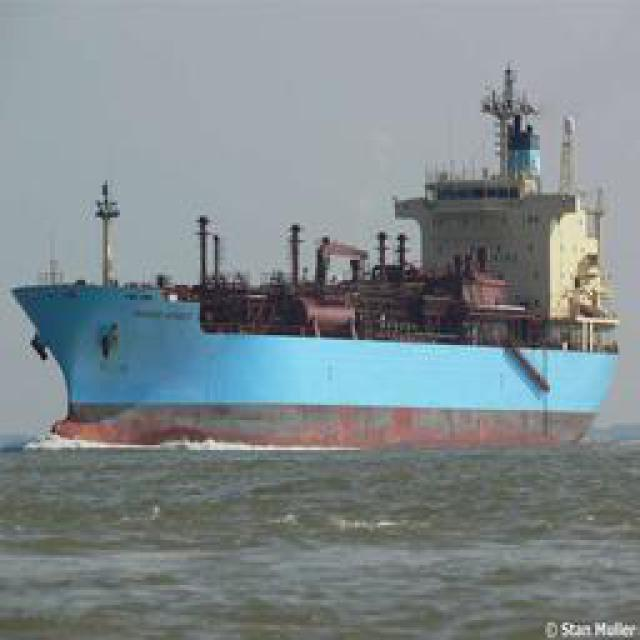Ship: (17, 122, 630, 465)
